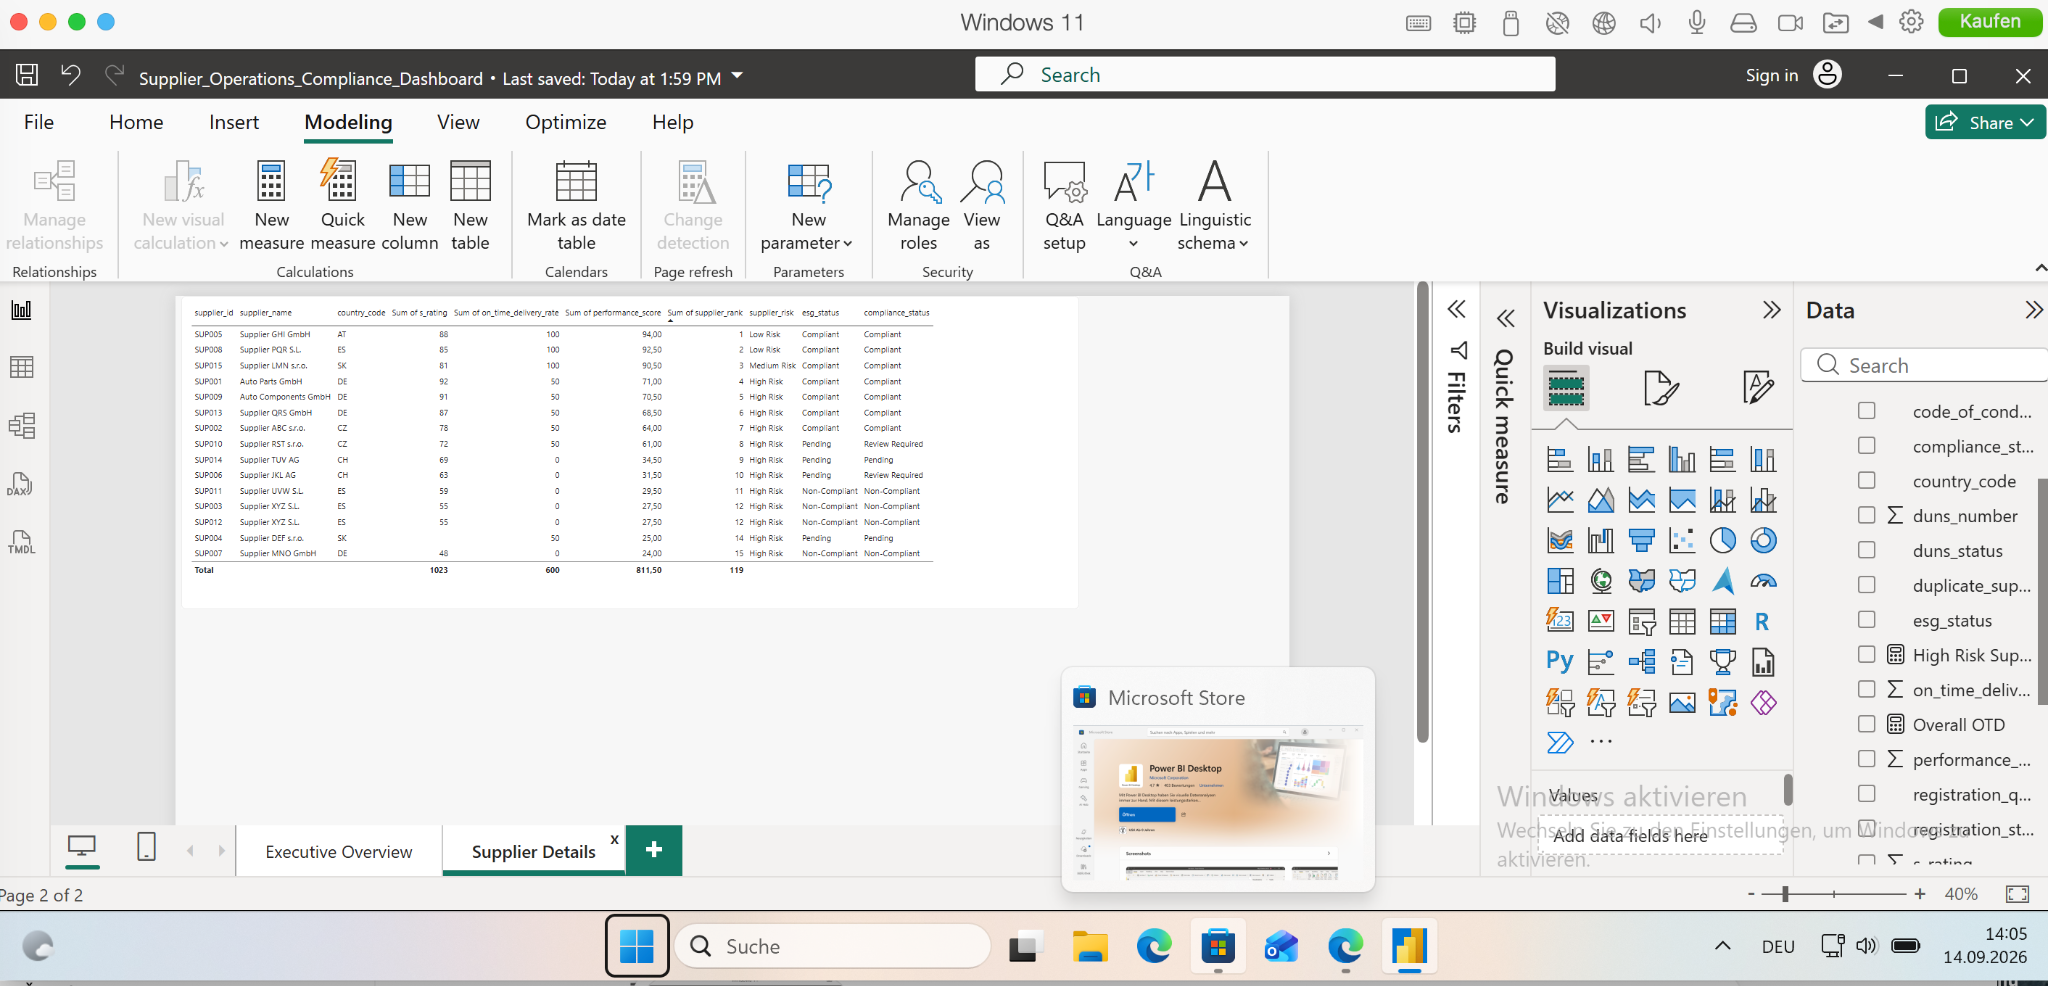

What the dashboard file says about the page in this screenshot:
{"tool":"powerbi","page":{"name":"Supplier Details","canvas":[1920,1080],"ordinal":1},"visuals":[{"type":"tableEx","fields":{"Values":["supplier_kpi_analysis.supplier_id","supplier_kpi_analysis.supplier_name","supplier_kpi_analysis.country_code","Sum(supplier_kpi_analysis.s_rating)","Sum(supplier_kpi_analysis.on_time_delivery_rate)","Sum(supplier_kpi_analysis.performance_score)","Sum(supplier_kpi_analysis.supplier_rank)","supplier_kpi_analysis.supplier_risk","supplier_kpi_analysis.esg_status","supplier_kpi_analysis.compliance_status"]},"box":[10,0,1547.5,540],"z":0}]}

Visuals, with their boxes on the page's 1920x1080 design canvas (x1, y1, x2, y2). These are canvas units, not pixel positions in the 2048x986 screenshot, which may show the page scaled, cropped or inside an application window:
tableEx - supplier_kpi_analysis.supplier_id x supplier_kpi_analysis.supplier_name: <region>10, 0, 1558, 540</region>
